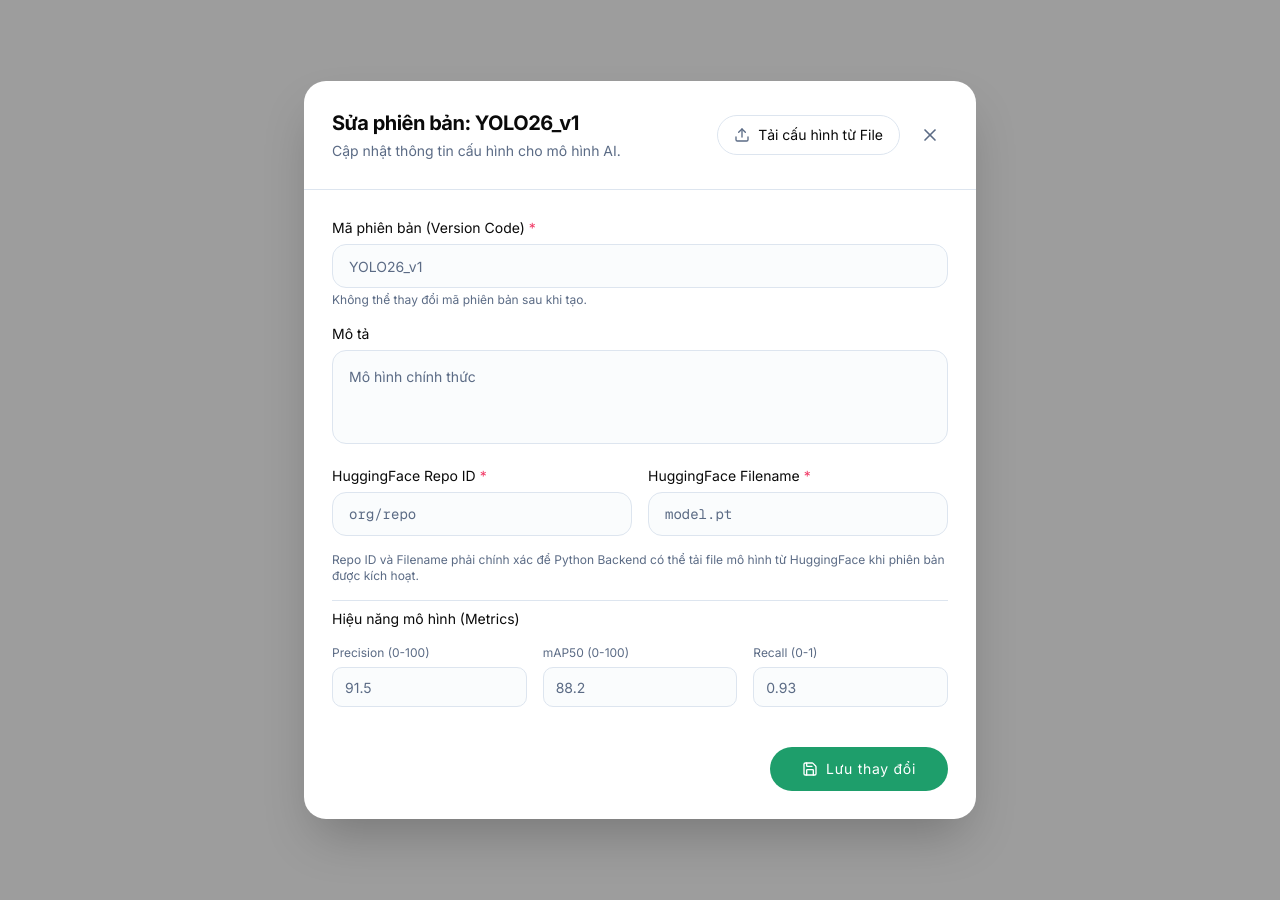
Test: AiModelFormDialog › submit thất bại — hiện đúng message lỗi từ backend
This screenshot has width=1280, height=900.
Click the button "Lưu thay đổi".
click(859, 769)  # box [770,747,948,791]
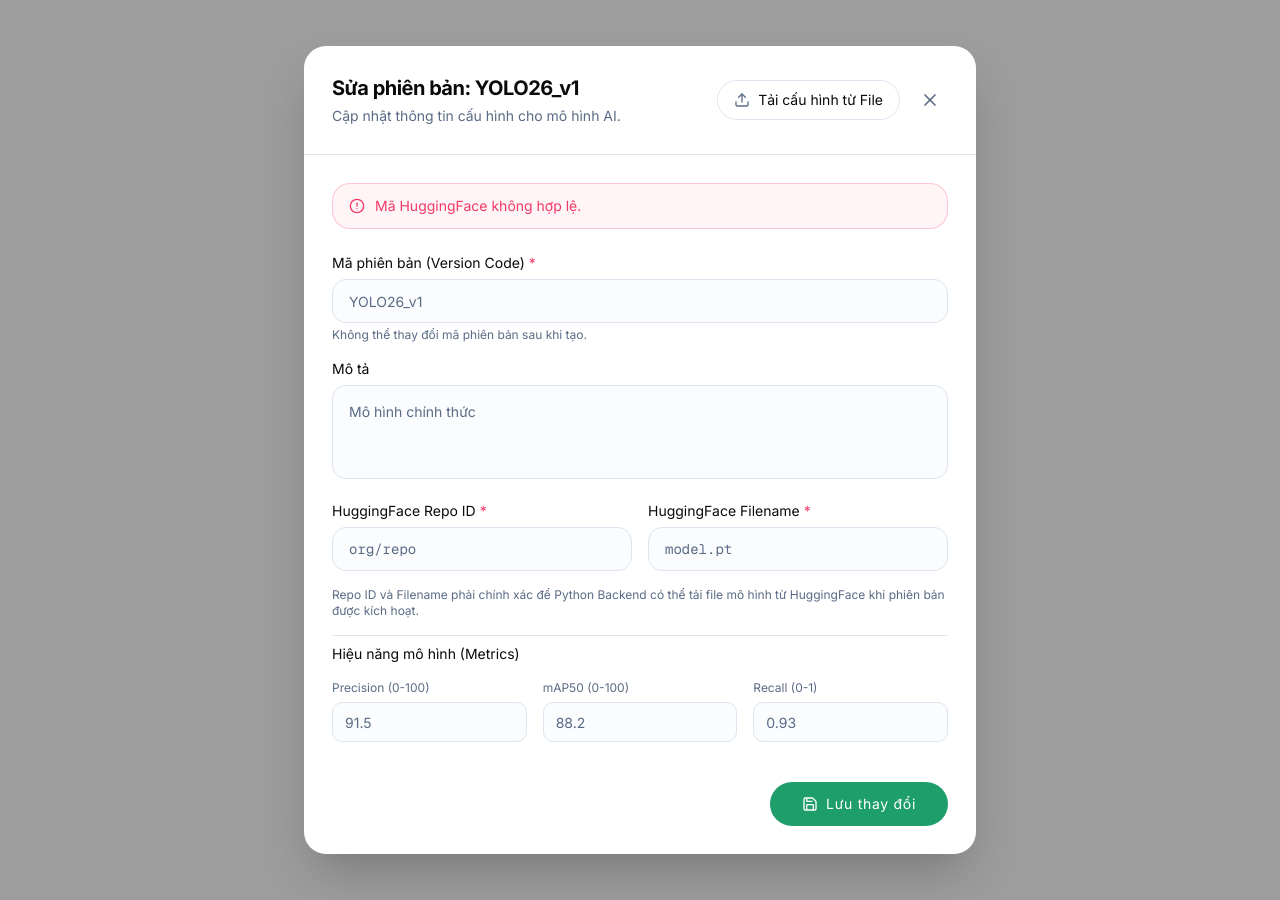
Now the message reads "Mã HuggingFace không hợp lệ.", box [375,197,581,214]
